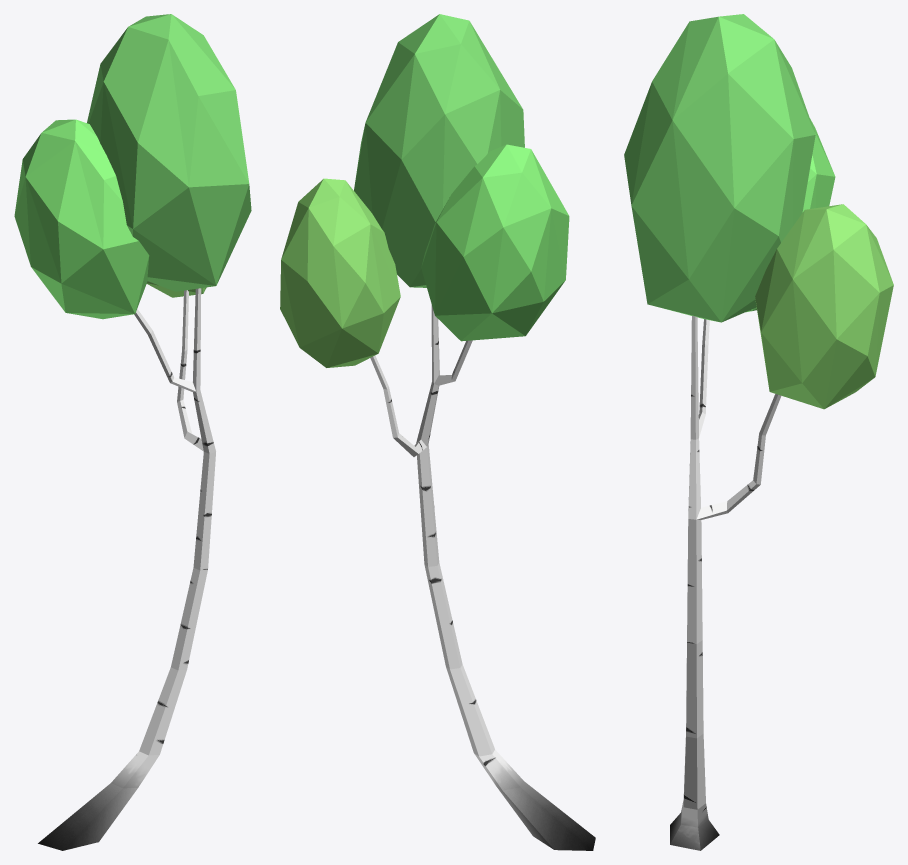
File: Birch_Tree_l_04_LOD.fbx
3 renders of one model, left to right at view 1: azimuth 30°, elevation 25°; view 2: azimuth 150°, elevation 25°; view 3: azimuth 270°, elevation 25°, orthographic. The views are drawn at different scales.
Visible parts, largest first — view 1: Birch_Tree_l_04_LOD0; view 2: Birch_Tree_l_04_LOD0; view 3: Birch_Tree_l_04_LOD0.
Part boxes in pixels (x1,y1,x2,y2): Birch_Tree_l_04_LOD0: [14, 14, 251, 850]; Birch_Tree_l_04_LOD0: [280, 14, 595, 850]; Birch_Tree_l_04_LOD0: [624, 14, 893, 850].
Size of what is drawn, in the model's own units: 407 by 1265 by 352.
